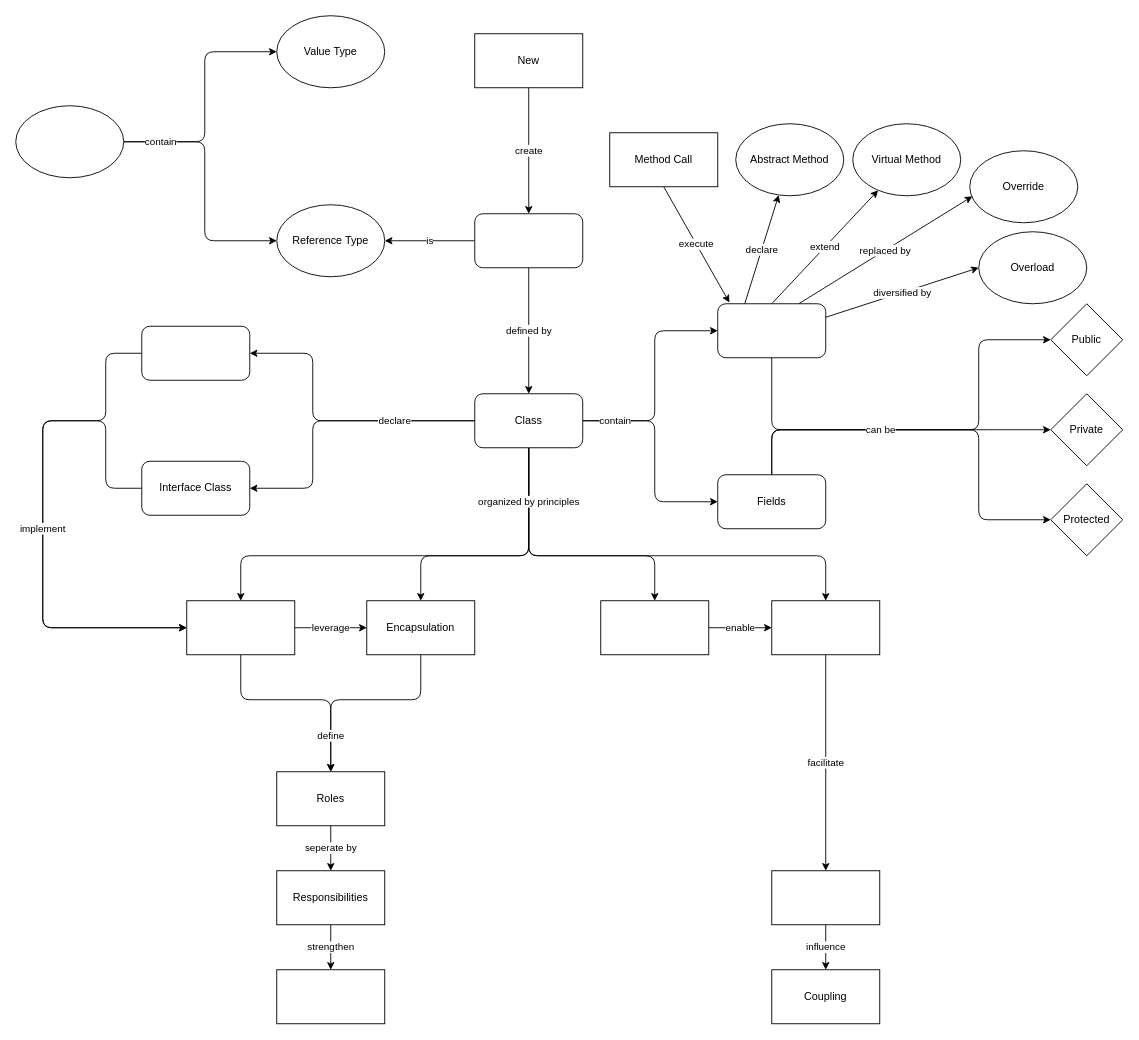
This 1139x1040 diagram has some shape labels left out. Here are the shapes that lost their labels. From the top down, the centre of each, then its label:
the point at 69,141: Data Type
the point at 528,240: Object
the point at 771,330: Method
the point at 195,352: Abstract Class
the point at 240,627: Abstraction
the point at 654,627: Inheritance
the point at 825,627: Polymorphism
the point at 825,897: Collaboration
the point at 330,996: Cohesion
